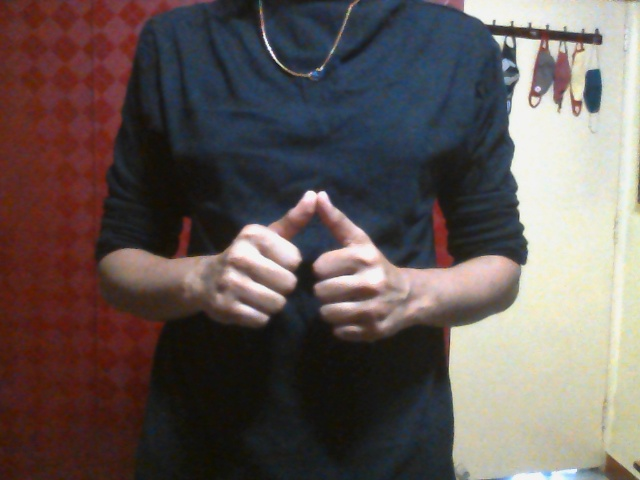A: (205, 186, 411, 349)
